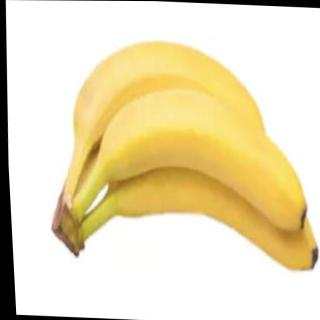banana: (91, 84, 311, 234), (101, 145, 320, 276), (66, 34, 270, 158)
